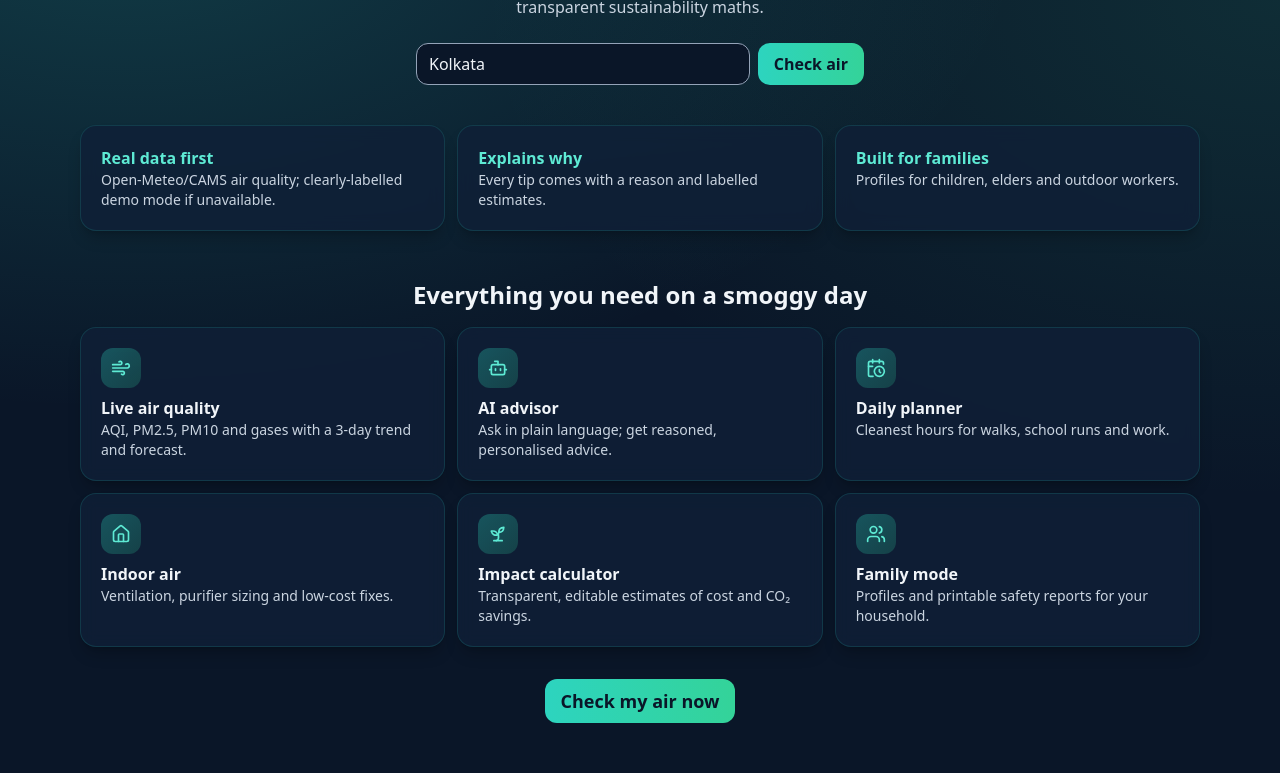
navigation › moves focus to the new page heading and updates the document title
(page scrolled)
Click the button "Check my air now".
click(640, 701)  # box x1=545 y1=679 x2=736 y2=723
(page scrolled)
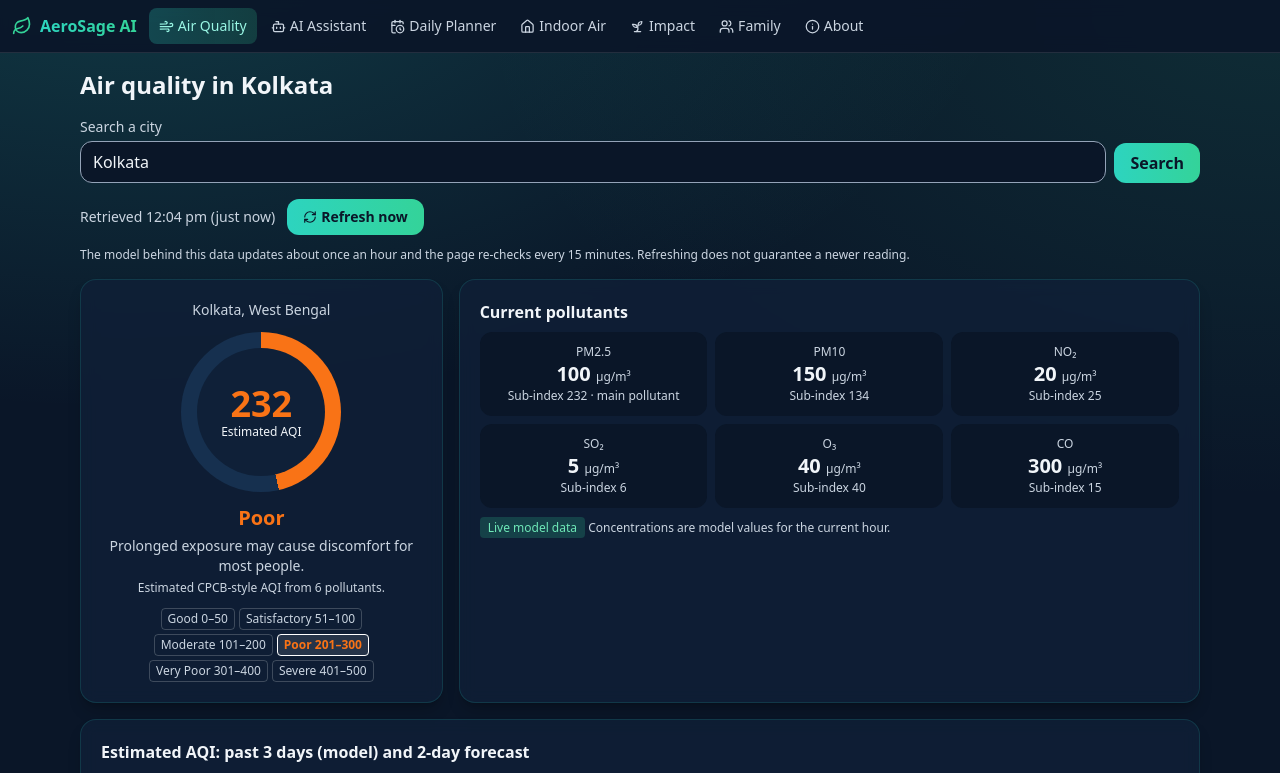
Check: the heading "Air quality in Kolkata" is shown, box x1=80 y1=68 x2=333 y2=101
Click the button "Daily Planner".
click(443, 26)  # box x1=380 y1=8 x2=506 y2=44
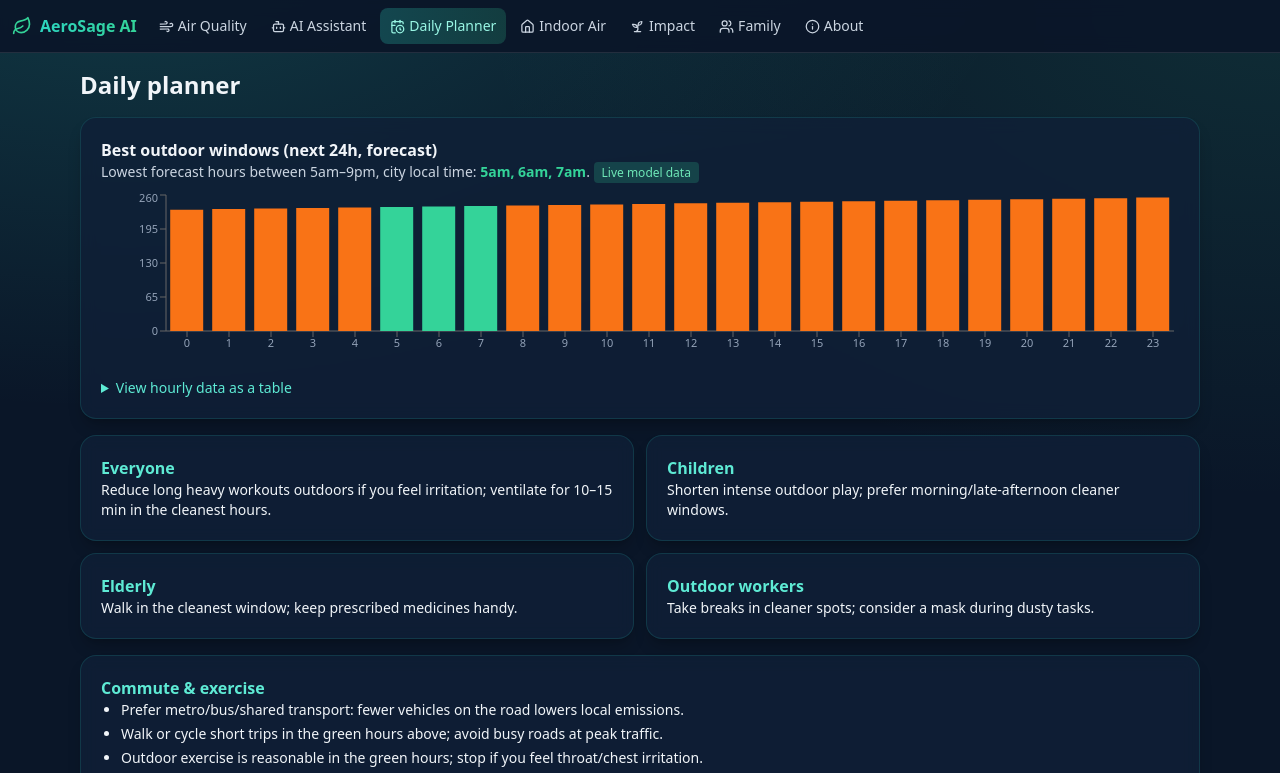
Check: the button "Daily Planner" is marked as current, box x1=380 y1=8 x2=506 y2=44
